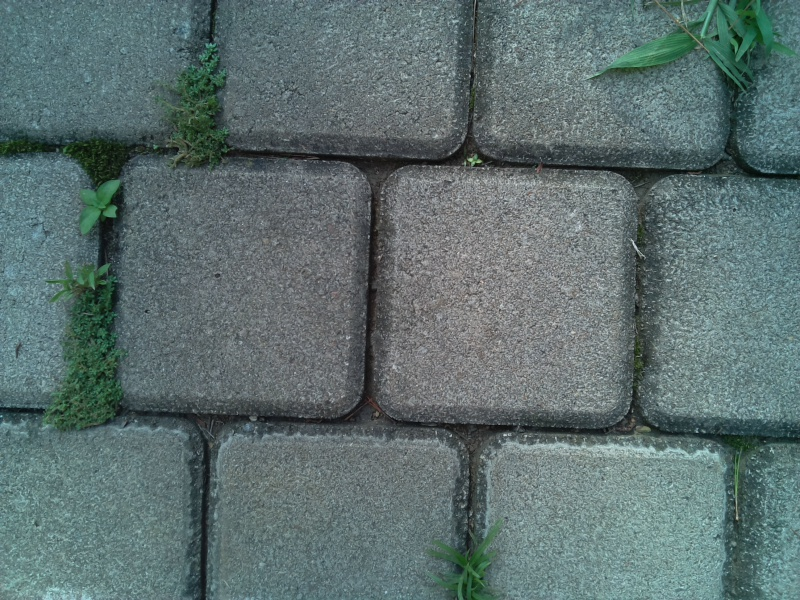Weed: (630, 1, 793, 103), (49, 278, 127, 436), (168, 37, 244, 173), (426, 523, 503, 600), (39, 255, 128, 303), (71, 176, 129, 239), (455, 148, 492, 179)
